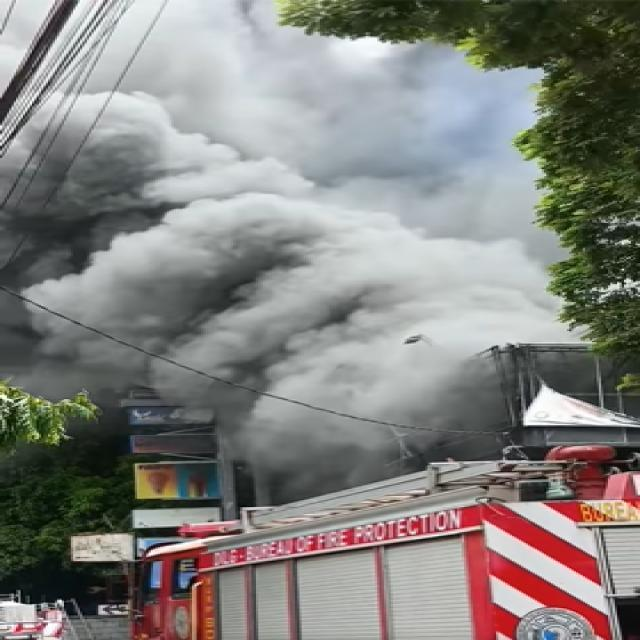Smoke: (9, 9, 546, 400), (235, 382, 388, 478)
